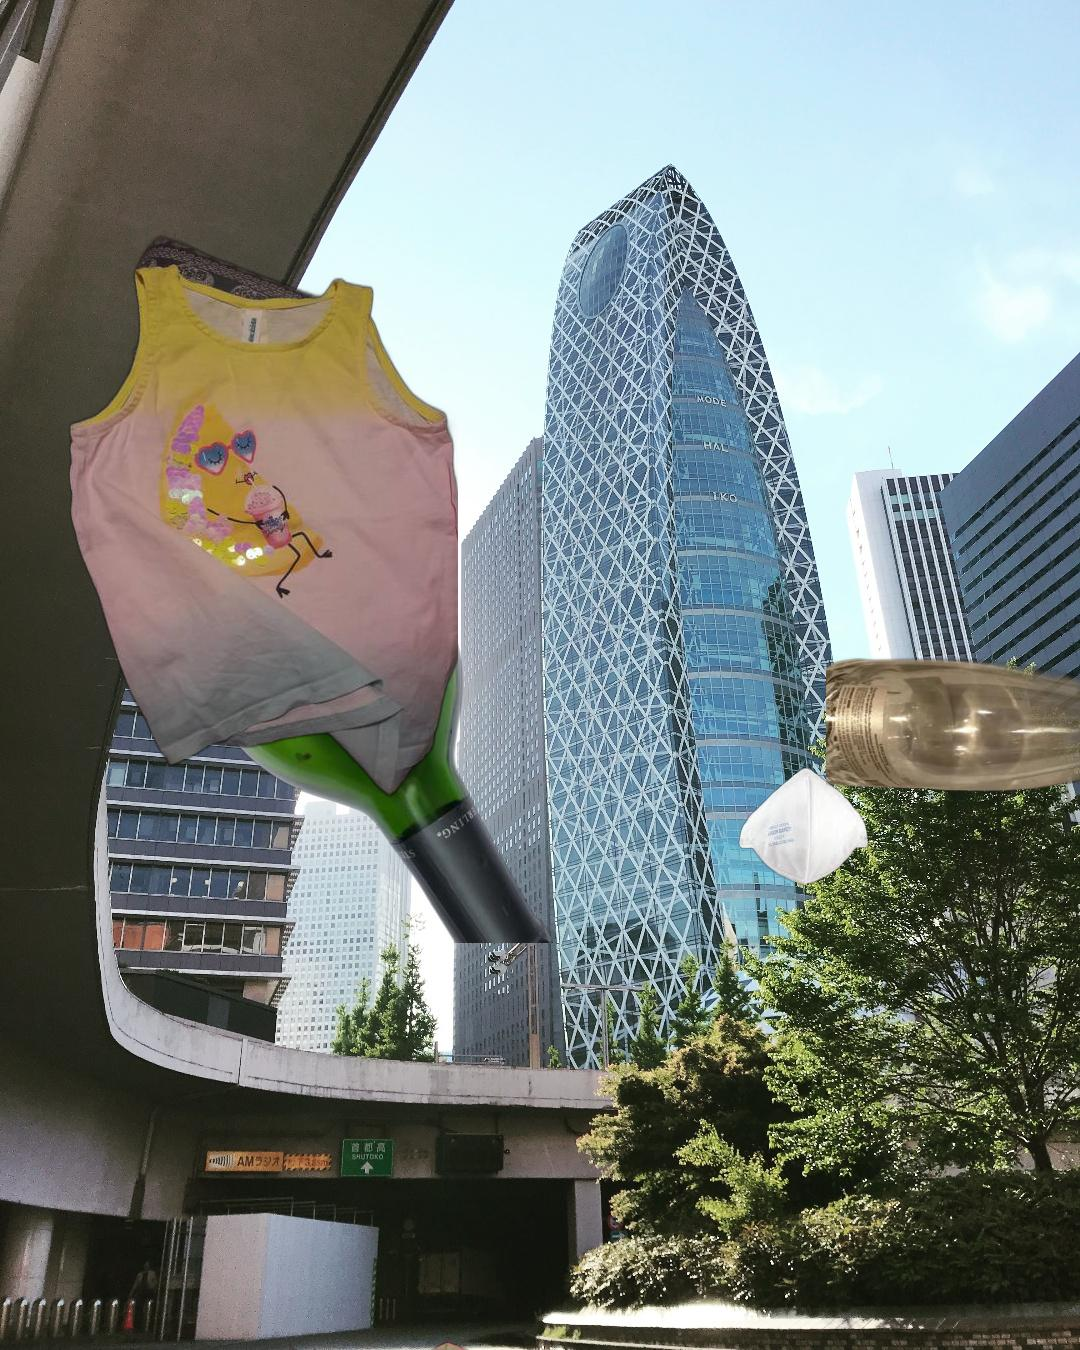clothes: (65, 229, 458, 801)
glass: (220, 559, 558, 943), (827, 656, 1080, 793)
metal-cans: (832, 677, 1080, 1350)
paper: (150, 413, 404, 624)
paper-bag: (247, 1340, 510, 1350)
trash: (736, 765, 871, 888)
trashbox-cardboard: (1073, 403, 1080, 1350)
